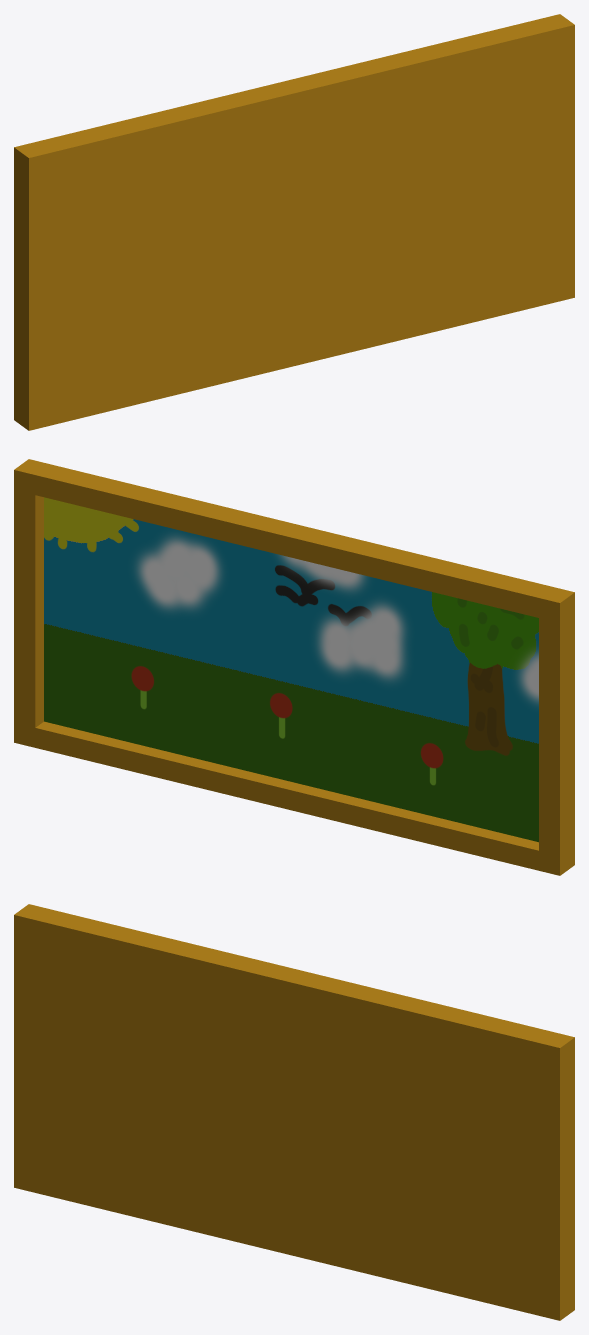
The model's file is Long_Pictureframe_2.fbx.
3 views of the same model, one above another, from view 1: azimuth 30°, elevation 25°; view 2: azimuth 150°, elevation 25°; view 3: azimuth 330°, elevation 25° (orthographic).
Parts seen in each view (by area): view 1: Cube.070; view 2: Cube.070; view 3: Cube.070.
Boxes of the visible parts, x1,y1,x2,y2 form: Cube.070: (14,14,574,430); Cube.070: (14,459,574,875); Cube.070: (14,904,574,1320).
Size of the model in its own units: 164 by 78.49 by 7.75.
